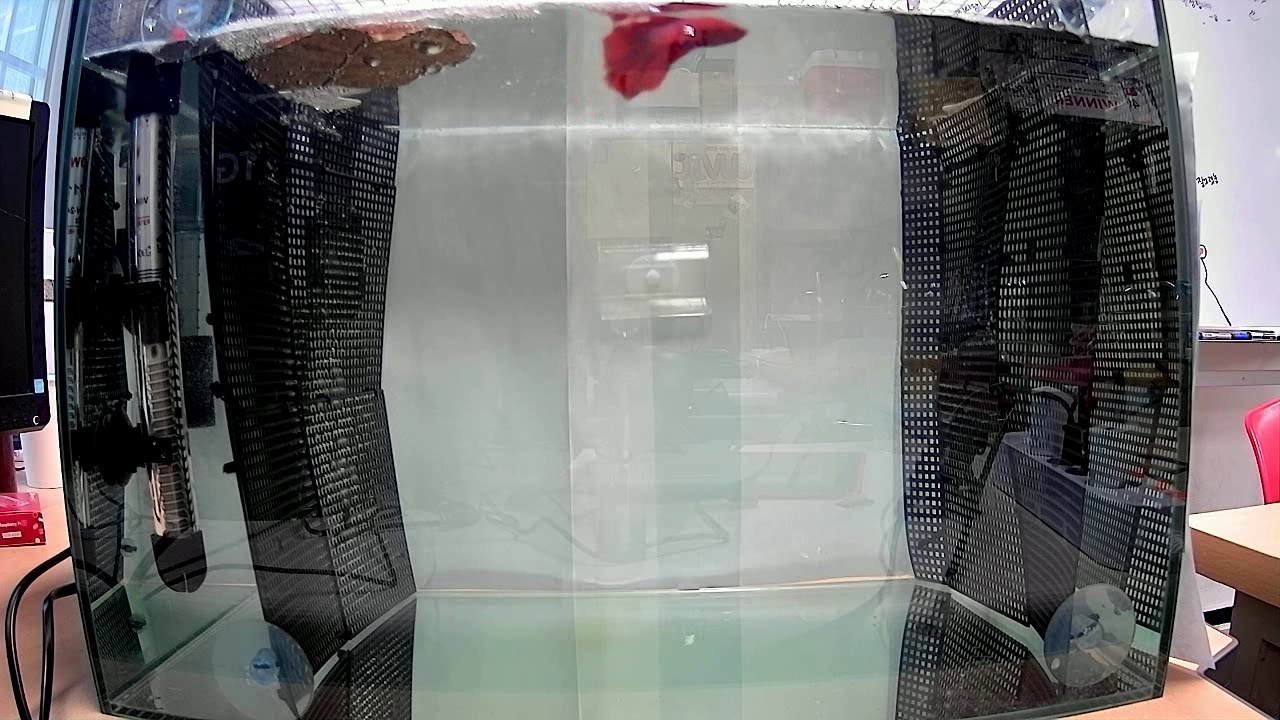fish: (593, 7, 760, 101)
